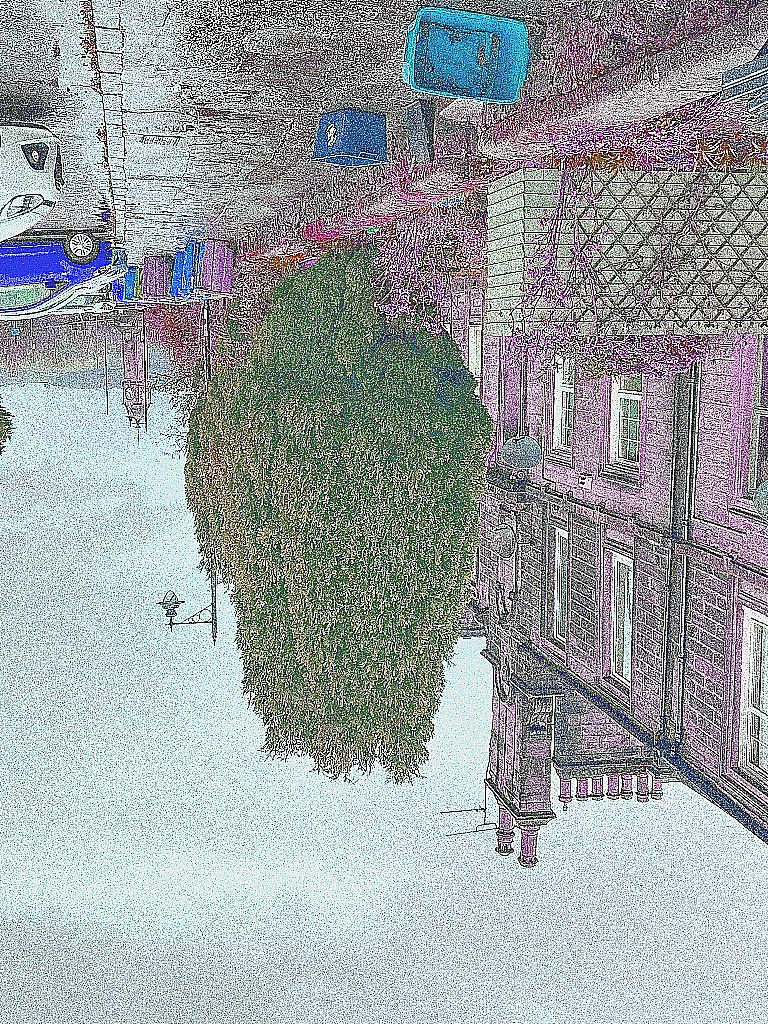Tree: (184, 244, 498, 788)
